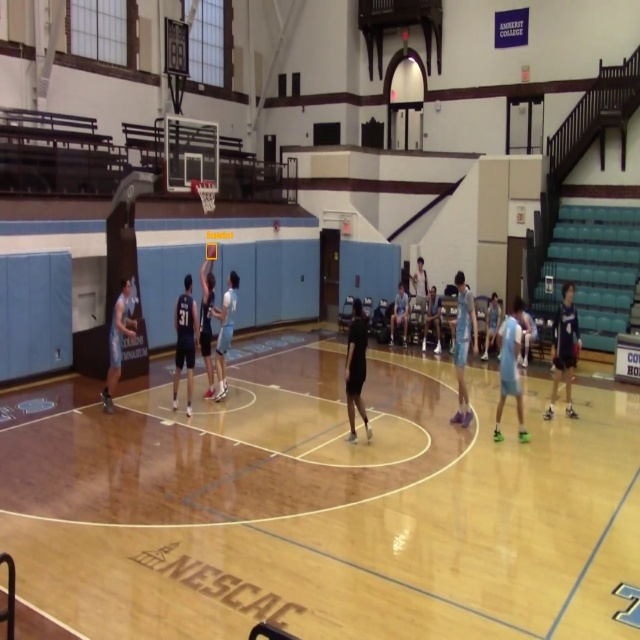Basketball: (207, 244, 217, 259)
